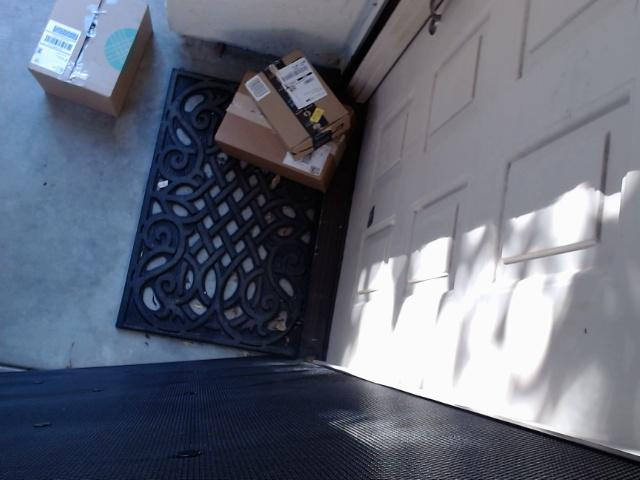box: (198, 62, 359, 184), (28, 0, 166, 117), (240, 48, 357, 154)
